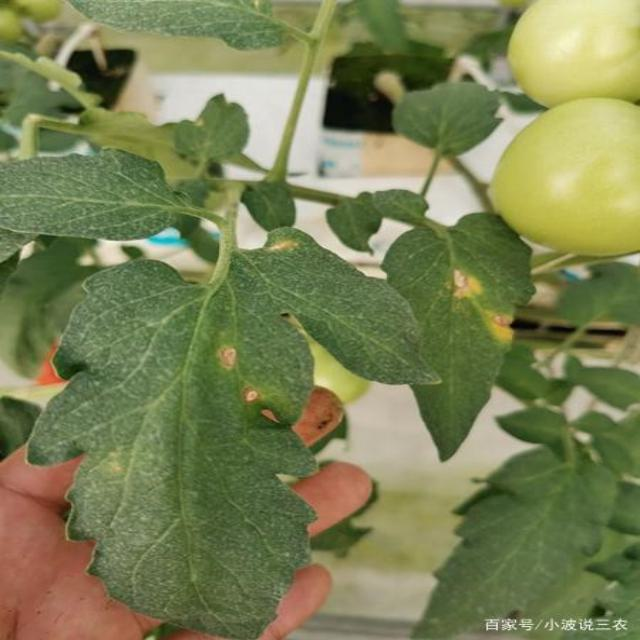Leaf_Mold: (447, 260, 517, 350), (259, 233, 300, 259), (211, 340, 239, 372), (240, 383, 261, 406)
